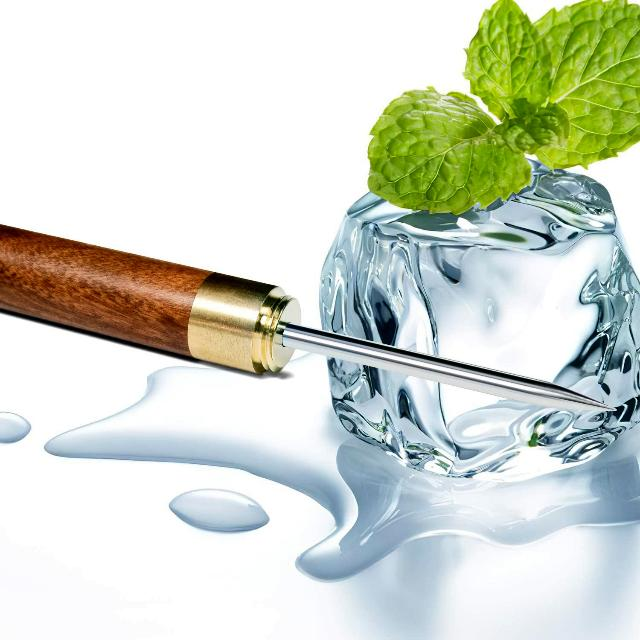ice pick: (0, 222, 618, 412)
